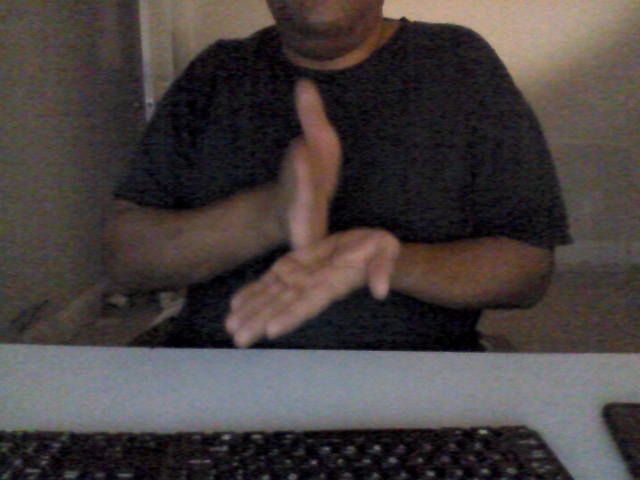stop: (218, 79, 405, 351)
